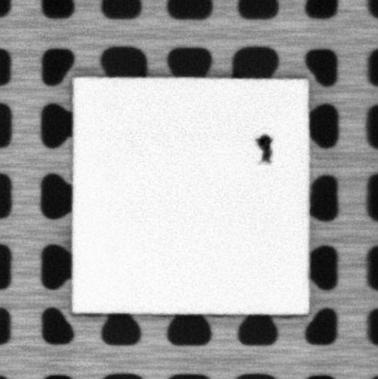DIE_INK: (255, 133, 273, 165)
